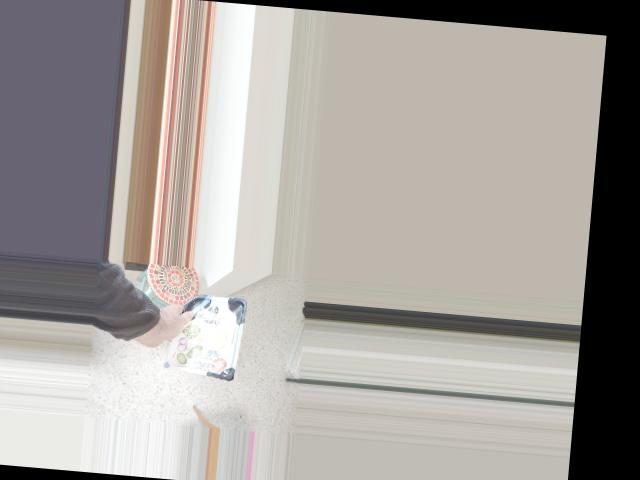cheese: (138, 290, 230, 379)
